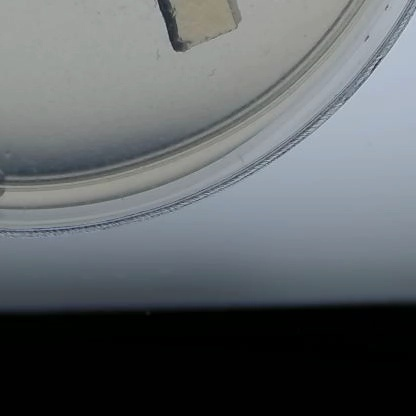worm: (197, 64, 222, 79), (147, 48, 167, 63)
